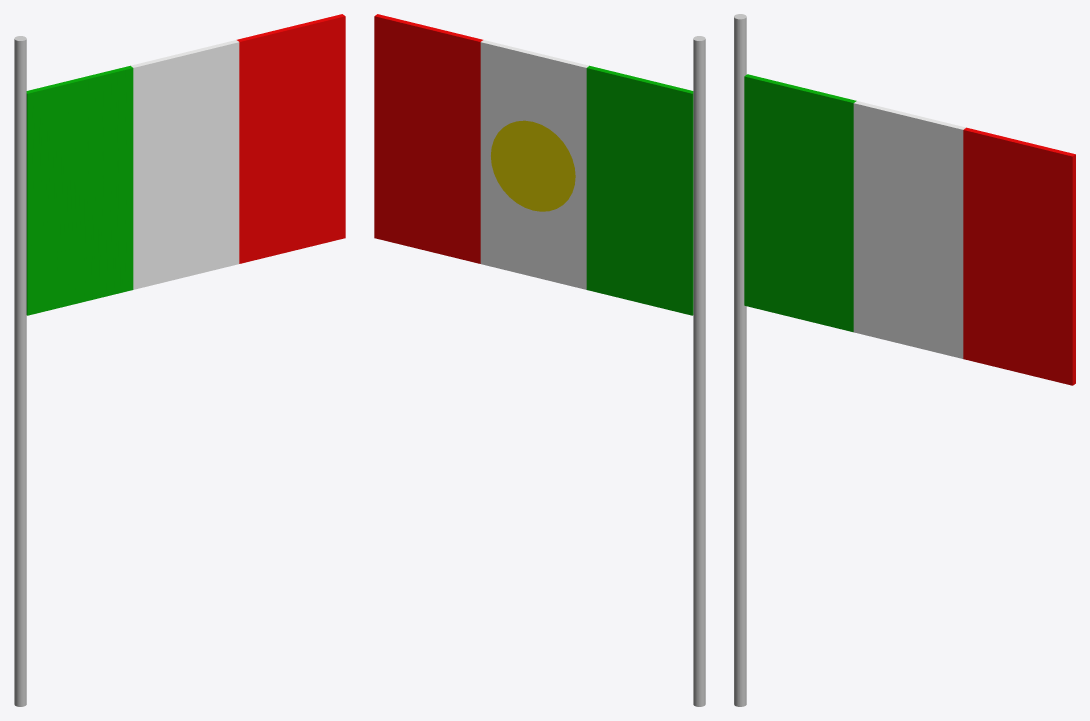
The model's file is flag.glb.
3 views of the same model, side by side, from view 1: azimuth 30°, elevation 25°; view 2: azimuth 150°, elevation 25°; view 3: azimuth 330°, elevation 25° (orthographic). The views are drawn at different scales.
Parts seen in each view (by area): view 1: Circle; view 2: Circle; view 3: Circle.
Part boxes in pixels (x1,y1,x2,y2): Circle: (14, 14, 345, 706); Circle: (374, 14, 705, 706); Circle: (734, 14, 1075, 706).
Size of the model in its own units: 1.41 by 2.72 by 0.0454.
